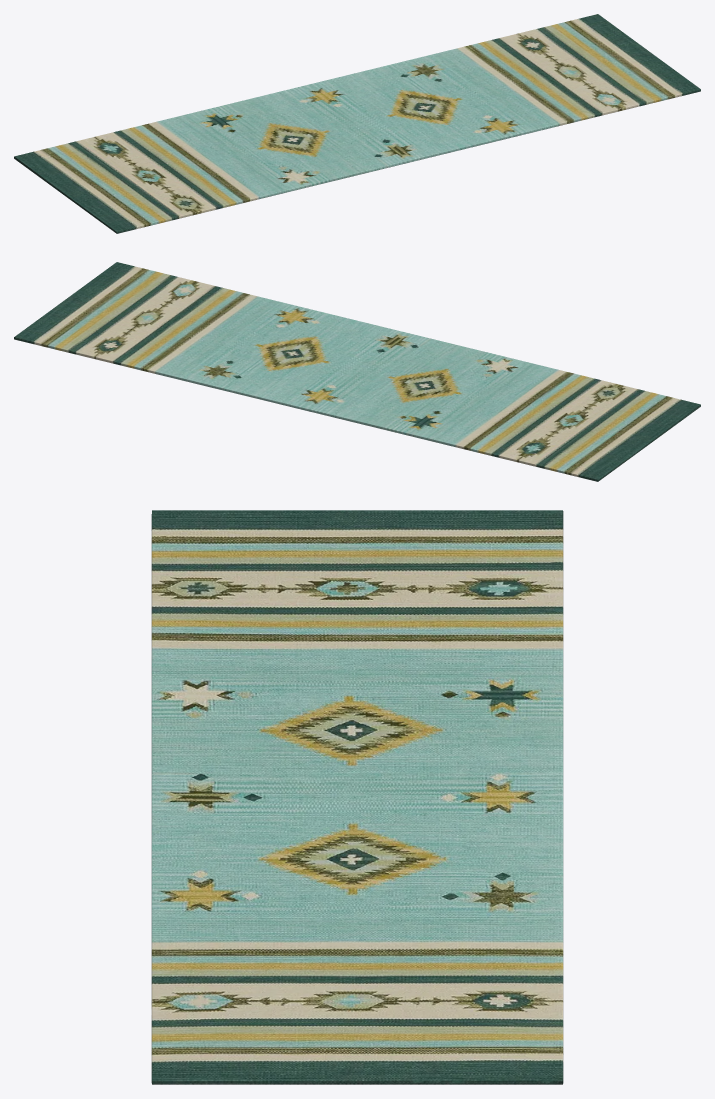
The model's file is B07B4SMRBS.glb.
3 views of the same model, one above another, from view 1: azimuth 30°, elevation 25°; view 2: azimuth 150°, elevation 25°; view 3: azimuth 270°, elevation 25° (orthographic). The views are drawn at different scales.
Parts seen in each view (by area): view 1: RootNode; view 2: RootNode; view 3: RootNode.
Part boxes in pixels (<box>): RootNode: <box>14,14,700,233</box>; RootNode: <box>14,262,700,481</box>; RootNode: <box>151,510,563,1084</box>.
Size of the model in its own units: 2.44 by 0.0101 by 0.744.
Materials: 1 (1 with a texture image).
